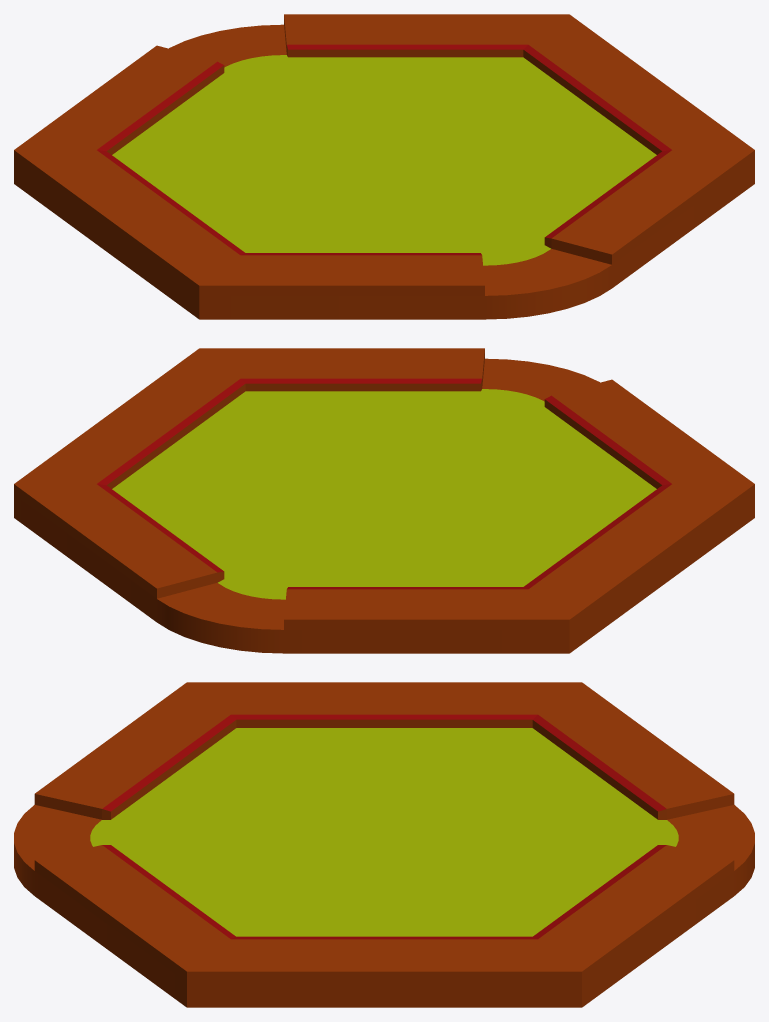
File: RoofTop.fbx
3 renders of one model, top to bottom at view 1: azimuth 30°, elevation 25°; view 2: azimuth 150°, elevation 25°; view 3: azimuth 270°, elevation 25°, orthographic. The views are drawn at different scales.
Visible parts, largest first — view 1: FinalRoomRoofTop; view 2: FinalRoomRoofTop; view 3: FinalRoomRoofTop.
Part boxes in pixels (<box>): FinalRoomRoofTop: <box>14,14,754,319</box>; FinalRoomRoofTop: <box>14,348,754,653</box>; FinalRoomRoofTop: <box>14,682,754,1007</box>.
Bounding box in the file's own units: 16662 × 971 × 18039.
